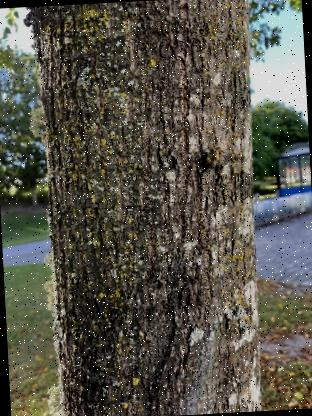tree: (27, 0, 281, 416)
